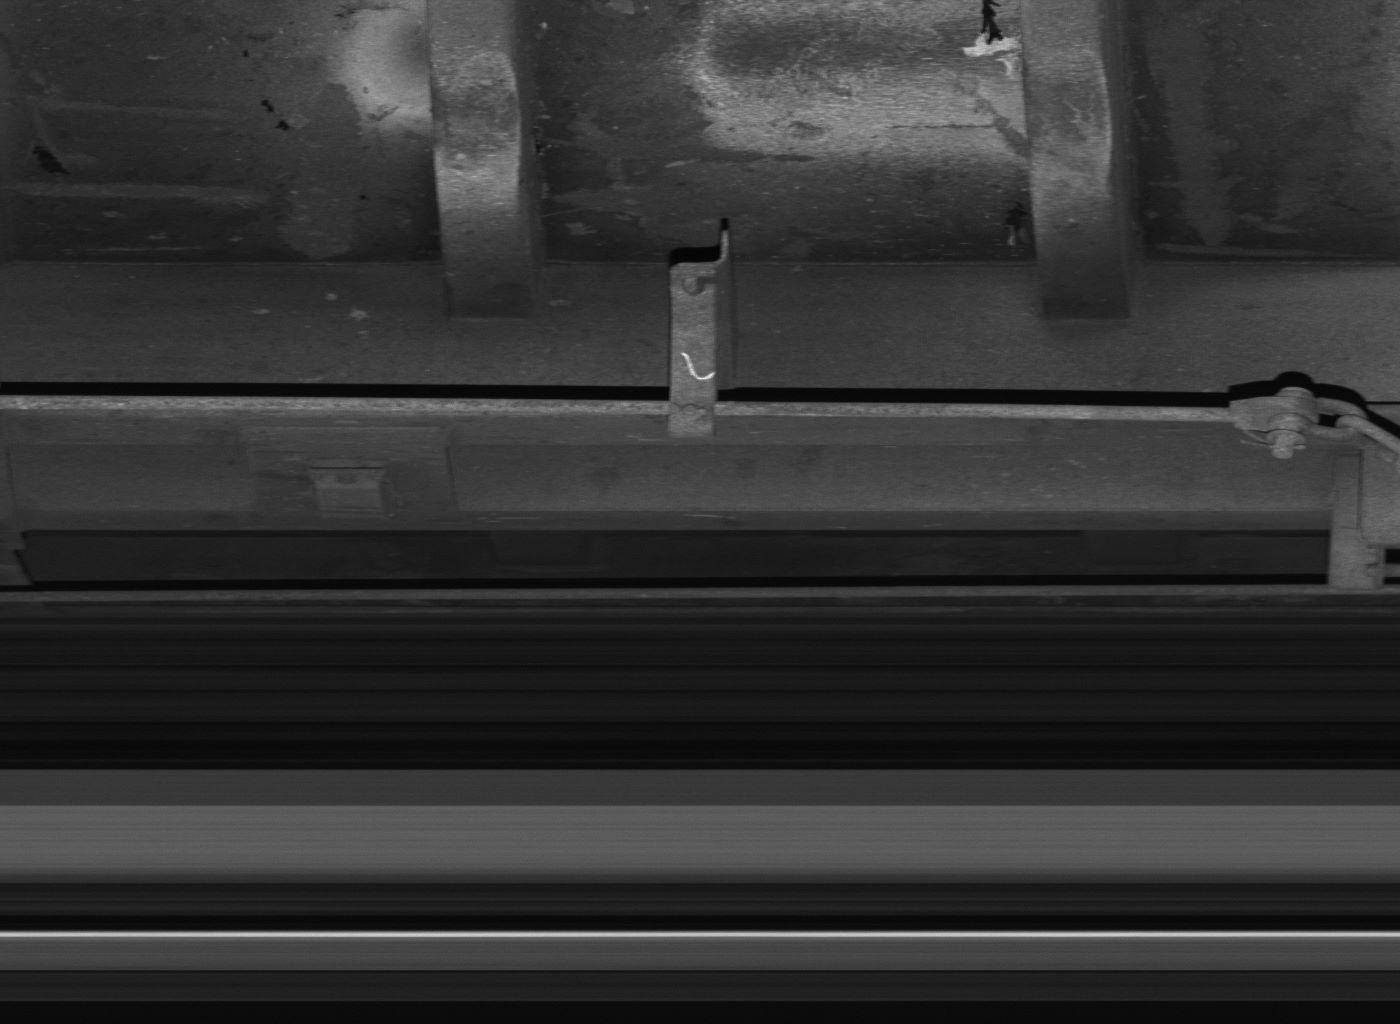normal: (662, 228, 729, 442)
